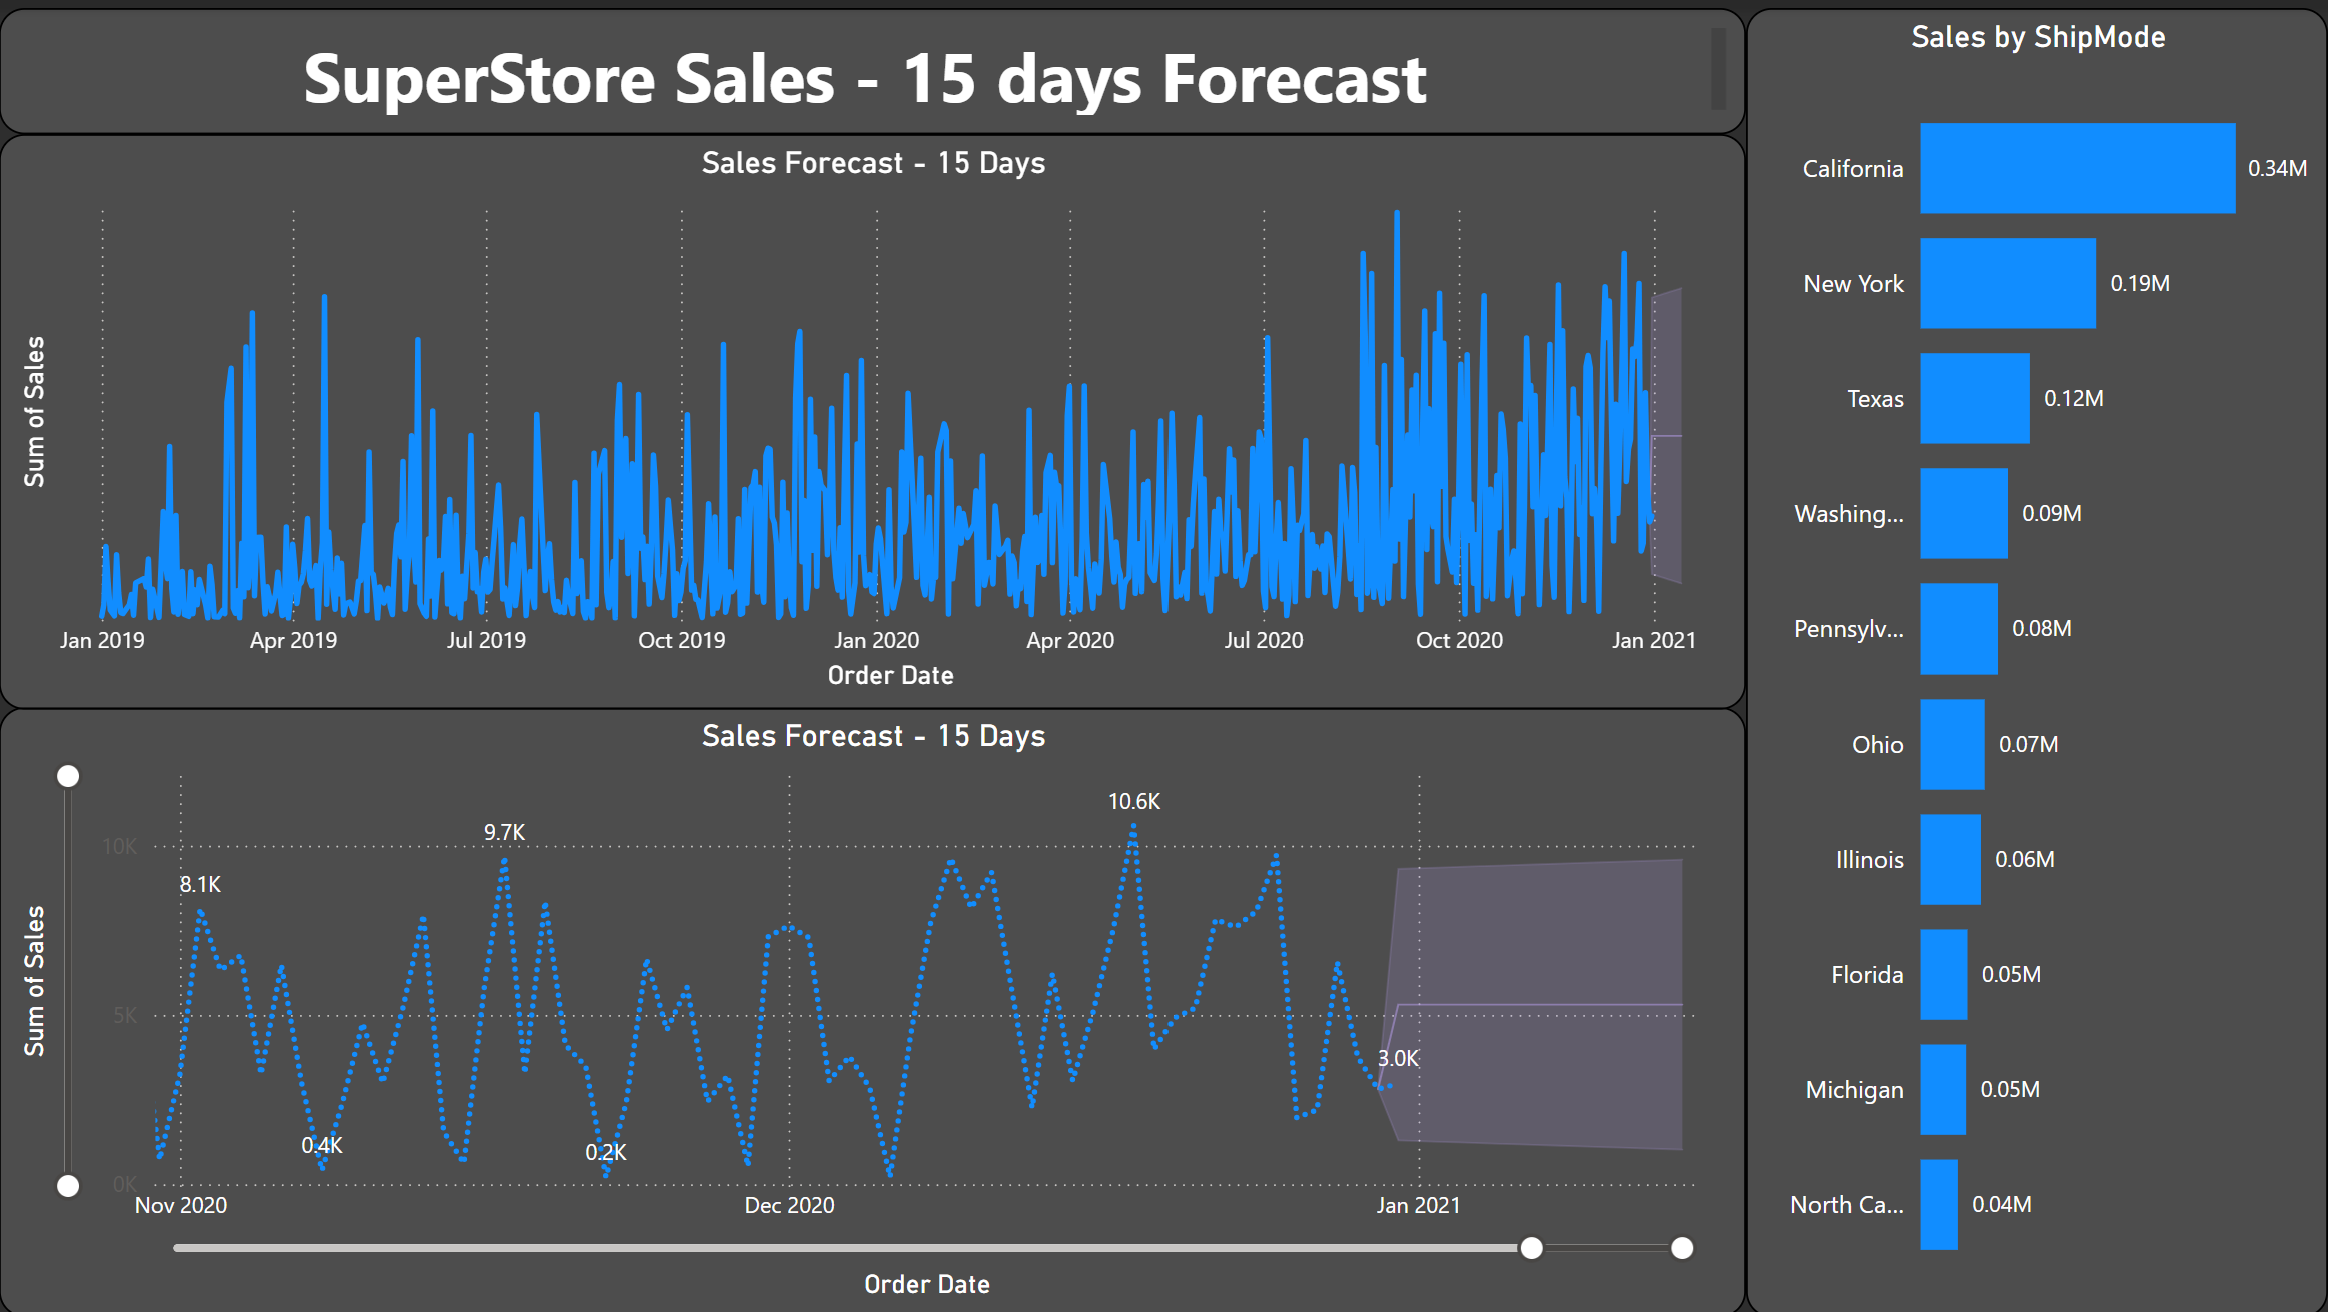

This screenshot's page, from the dashboard's own definition file:
{"tool":"powerbi","page":{"name":"Sales Forcast","canvas":[1280,720],"ordinal":1},"visuals":[{"type":"lineChart","title":"Sales Forecast - 15 Days","fields":{"Y":["Sum(SuperStore Sales DataSet (2).Sales)"],"Category":["SuperStore Sales DataSet (2).Order Date"]},"box":[0,384.3,960,335.4],"z":0},{"type":"lineChart","title":"Sales Forecast - 15 Days","fields":{"Y":["Sum(SuperStore Sales DataSet (2).Sales)"],"Category":["SuperStore Sales DataSet (2).Order Date"]},"box":[0,69.4,960,316.1],"z":1000},{"type":"clusteredBarChart","title":"Sales by ShipMode","fields":{"Y":["Sum(SuperStore Sales DataSet (2).Sales)"],"Category":["SuperStore Sales DataSet (2).State"]},"box":[960,0,320,719.7],"z":2000},{"type":"textbox","box":[0,0,960,69.3],"z":3000}]}

Visuals, with their boxes in screenshot pixels (x1, y1, x2, y2), scaled from the page's 1280x720 canvas onto the 2328x1312 screenshot:
"Sales Forecast - 15 Days" lineChart: rect(0, 700, 1746, 1311)
"Sales Forecast - 15 Days" lineChart: rect(0, 126, 1746, 702)
"Sales by ShipMode" clusteredBarChart: rect(1746, 0, 2327, 1311)
textbox: rect(0, 0, 1746, 126)
